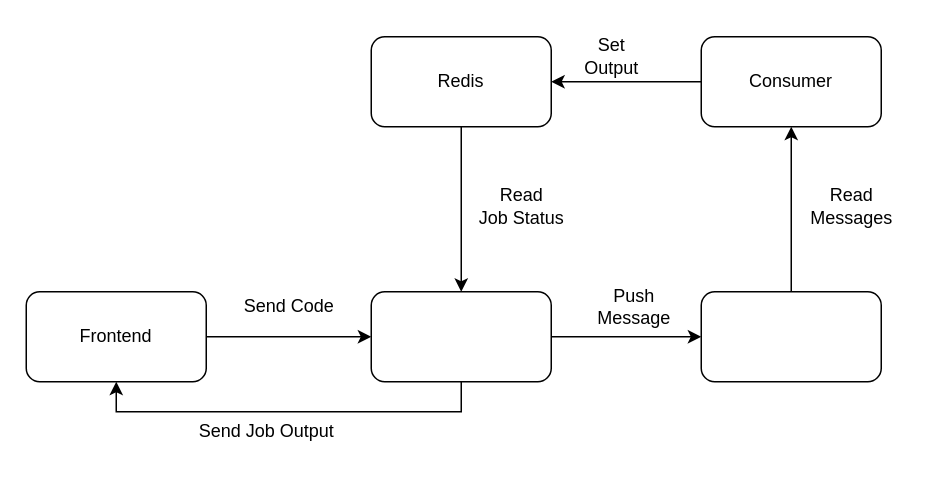
Some shapes in this 938 by 479 pixel diagram are drawn without their labels. The shapes that lost their labels are listed below. From the top down, each one's centre as x and y in pixels, then its label:
the point at 460,336: Backend Web Application
the point at 790,336: RabbitMQ
